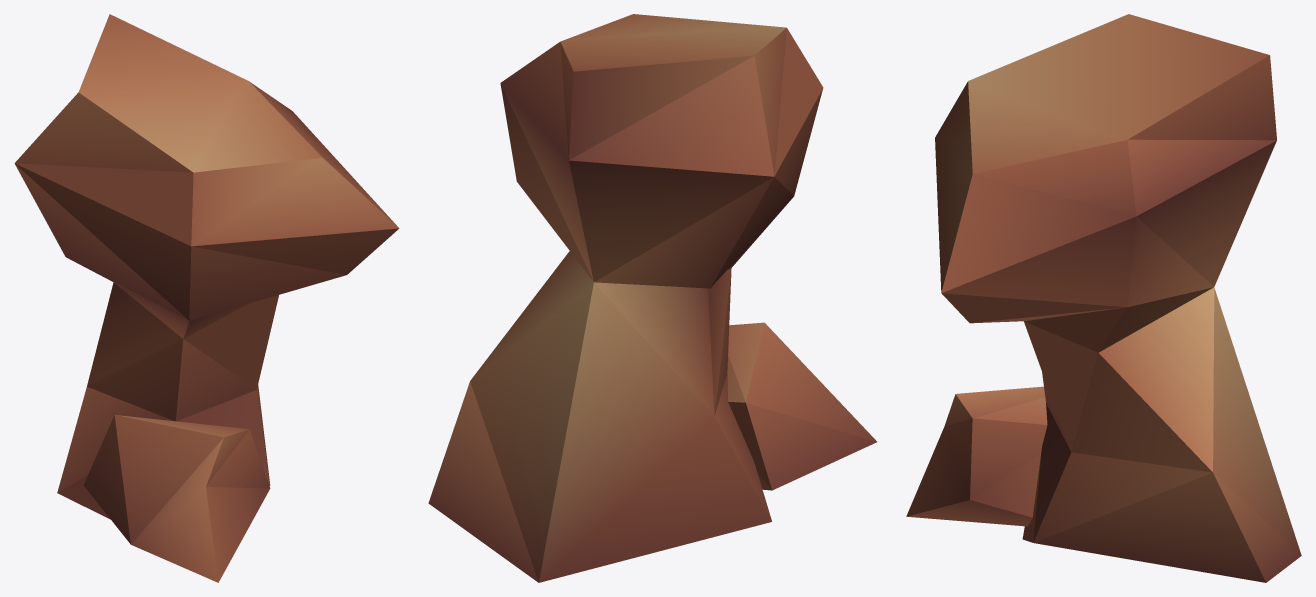
Rendered from Mixed_Rock_08.fbx.
The picture shows the model from 3 angles, left to right: view 1: azimuth 30°, elevation 25°; view 2: azimuth 150°, elevation 25°; view 3: azimuth 270°, elevation 25°; orthographic projection. The views are drawn at different scales.
Visible parts, largest first — view 1: Rock_08.001; view 2: Rock_08.001; view 3: Rock_08.001.
Boxes of the visible parts, x1,y1,x2,y2 form: Rock_08.001: (14,14,399,582); Rock_08.001: (428,14,876,582); Rock_08.001: (906,14,1301,582).
Bounding box in the file's own units: 369 × 571 × 405.
